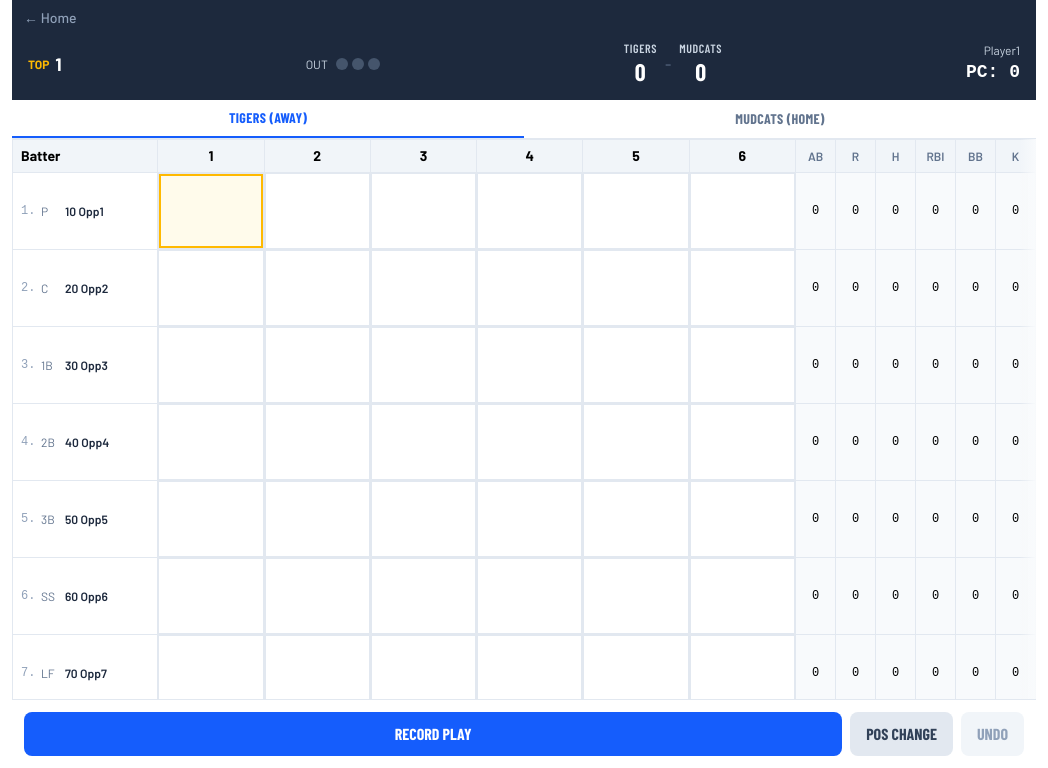
it: GamePage › should show beginner guide card after a play is recorded
Click the button "Record Play". click: (433, 734)
box: [24, 712, 842, 756]
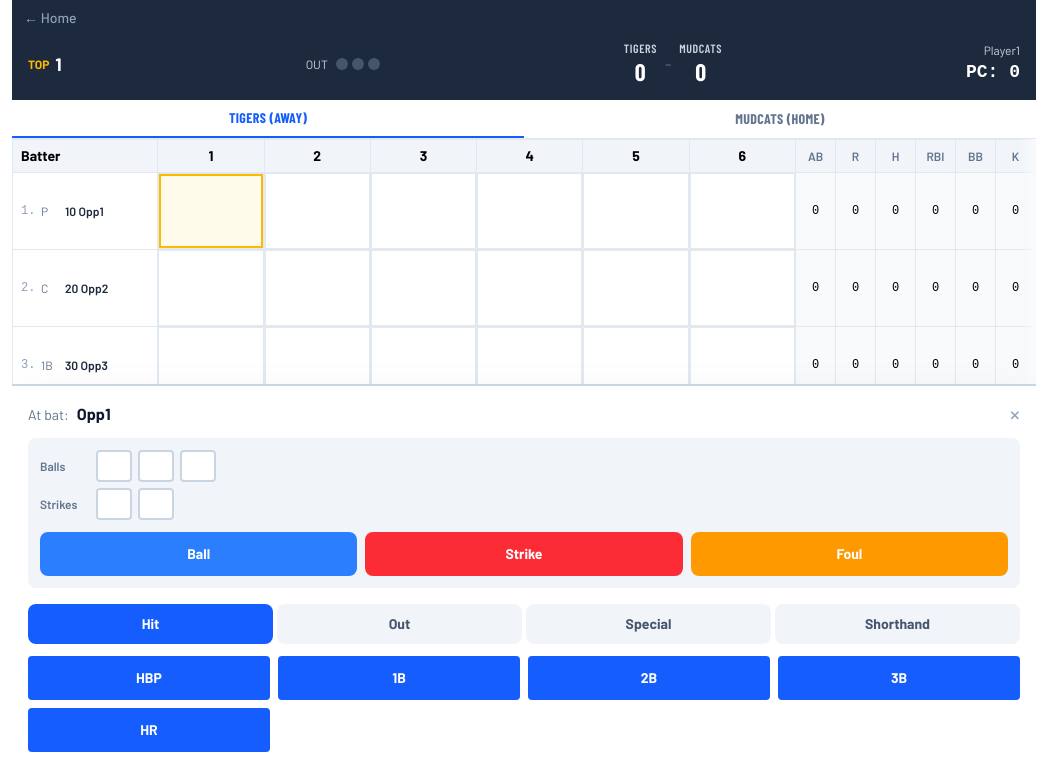
# Switch to Shorthand tab (tabbed layout added in Task 13)
Click the button "Shorthand". click: (898, 624)
box: [775, 604, 1020, 644]
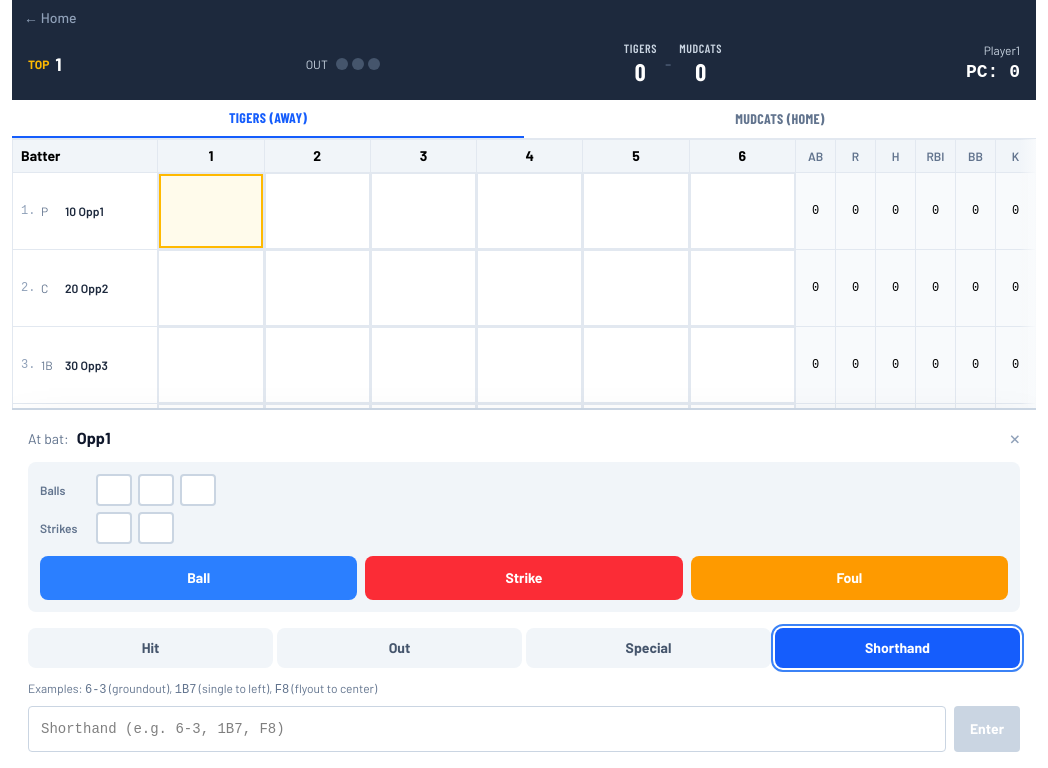
# Use shorthand to record a strikeout (K button removed from outcome grid)
Type "K" into the field with placeholder "Shorthand (e.g. 6-3, 1B7, F8)". click: (487, 729)
box: [28, 706, 946, 752]
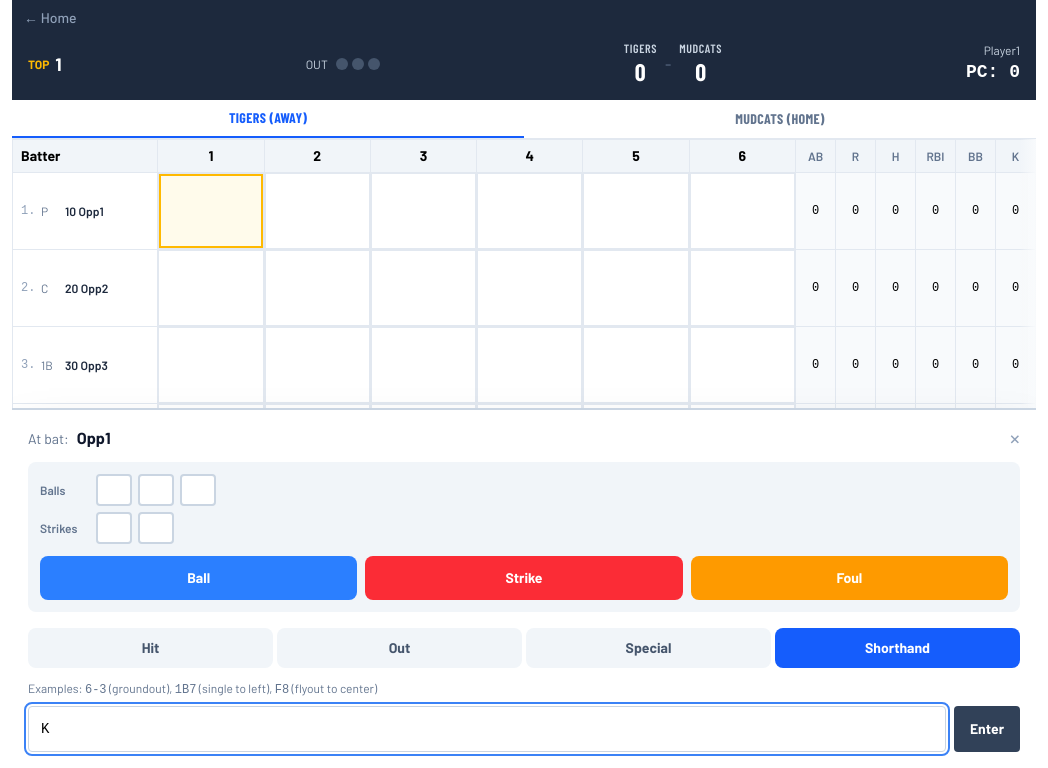
Click the button "Enter". click: (987, 729)
box: [954, 706, 1020, 752]
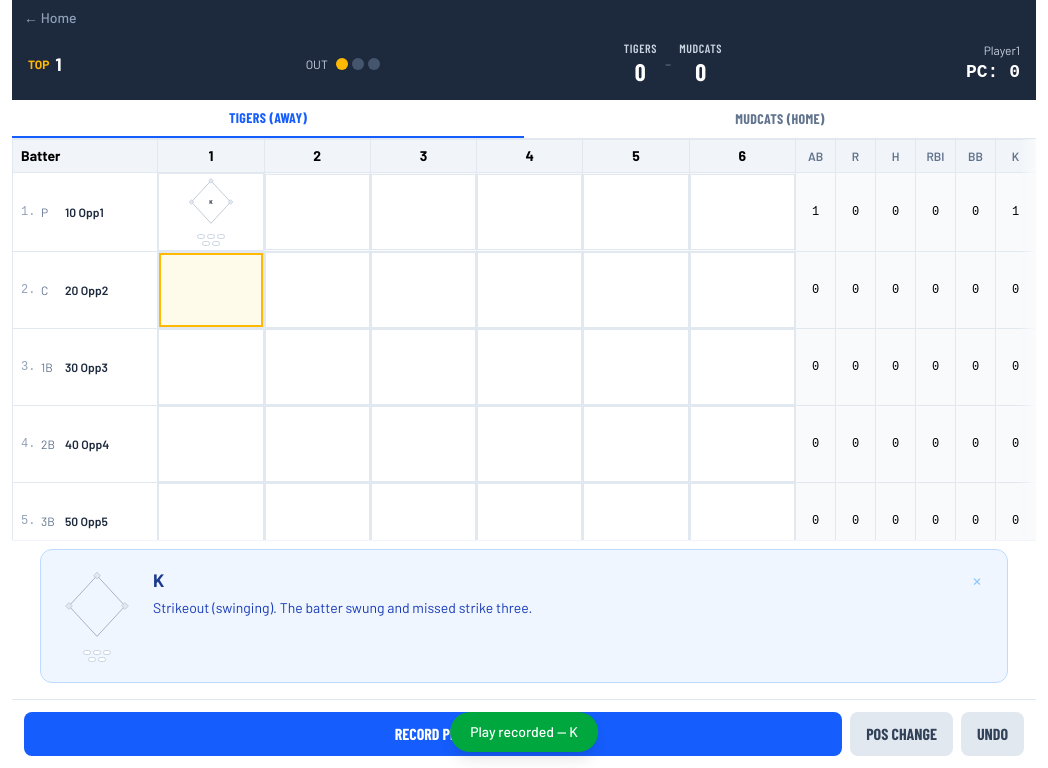
Now the text "Strikeout" is shown, box [153, 599, 532, 616]
